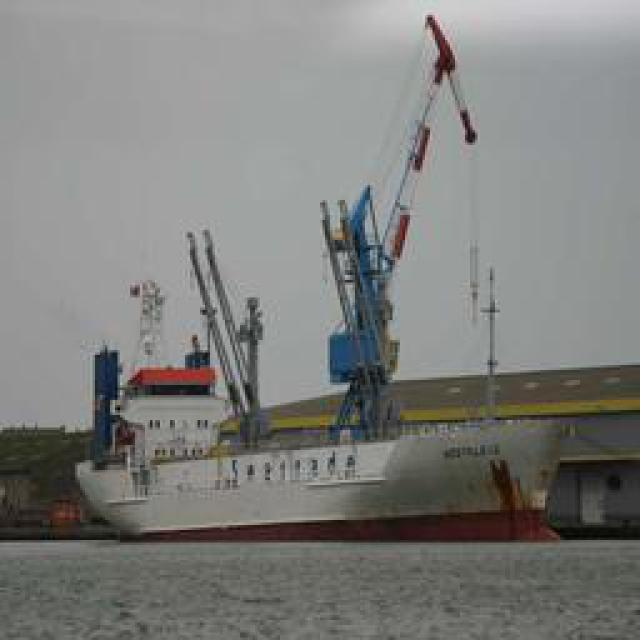Ship: (70, 223, 568, 557)
